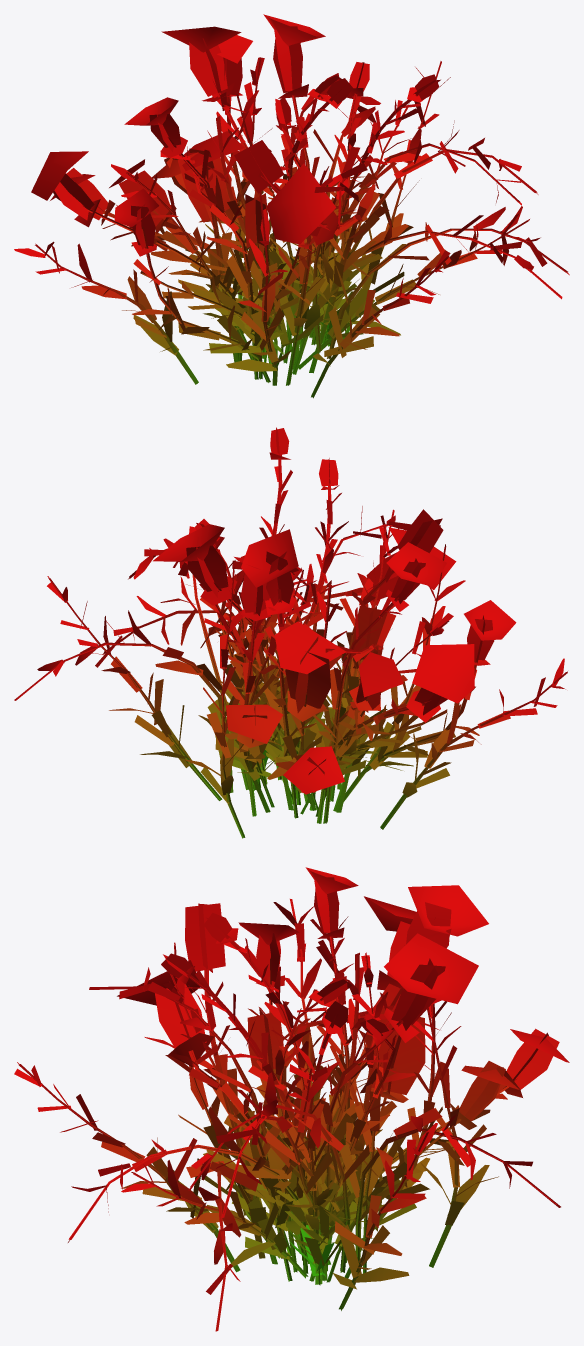
File: Var9_LOD3.fbx
3 views of the same model, one above another, from view 1: azimuth 30°, elevation 25°; view 2: azimuth 150°, elevation 25°; view 3: azimuth 270°, elevation 25° (orthographic). The views are drawn at different scales.
Visible parts, largest first — view 1: _mmyd_Var9_LOD3; view 2: _mmyd_Var9_LOD3; view 3: _mmyd_Var9_LOD3.
Part boxes in pixels (left/top/right/bottom): _mmyd_Var9_LOD3: left=14, top=14, right=569, bottom=398; _mmyd_Var9_LOD3: left=14, top=427, right=567, bottom=838; _mmyd_Var9_LOD3: left=14, top=867, right=569, bottom=1331.
Bounding box in the file's own units: 47.44 × 28.56 × 38.69.
